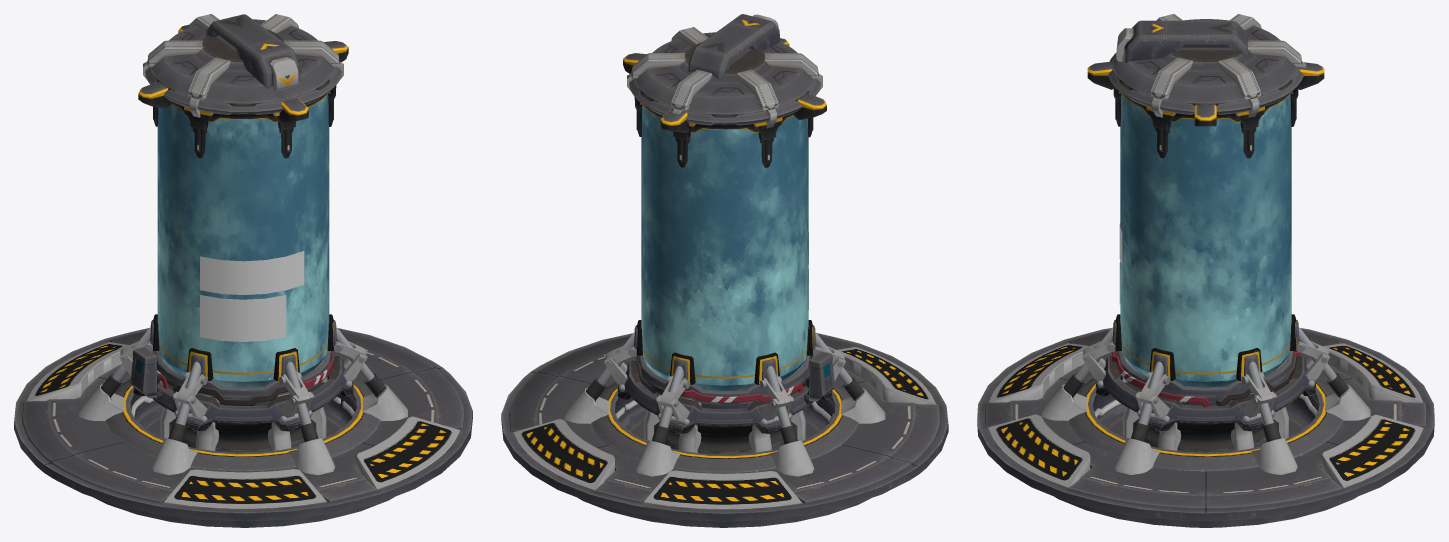
The model's file is rfs_deepsleep_v9.dae.
3 views of the same model, side by side, from view 1: azimuth 30°, elevation 25°; view 2: azimuth 150°, elevation 25°; view 3: azimuth 270°, elevation 25° (orthographic). The views are drawn at different scales.
Visible parts, largest first — view 1: rfs_deepsleep_v9; view 2: rfs_deepsleep_v9; view 3: rfs_deepsleep_v9.
Boxes of the visible parts, x1=… form: rfs_deepsleep_v9: x1=14, y1=14, x2=472, y2=527; rfs_deepsleep_v9: x1=501, y1=14, x2=948, y2=527; rfs_deepsleep_v9: x1=977, y1=14, x2=1434, y2=527.
Bounding box in the file's own units: 4.15 × 4.12 × 4.16.
Materials: 4 (3 with a texture image).
